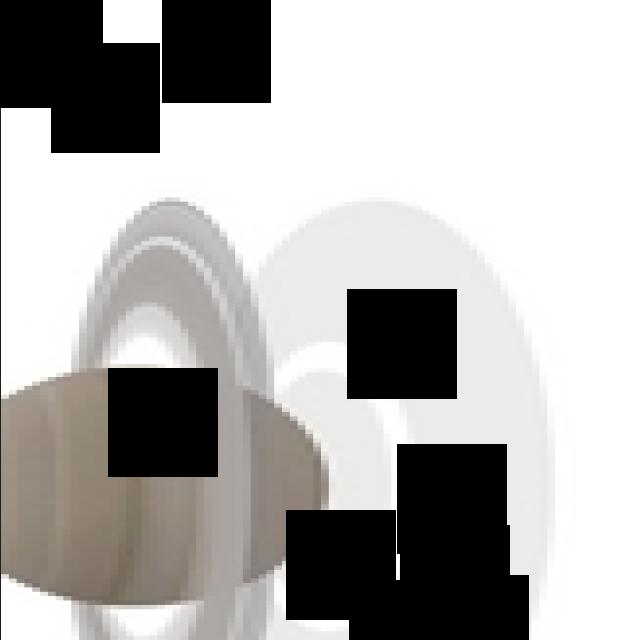Saturn: (0, 198, 336, 640)
